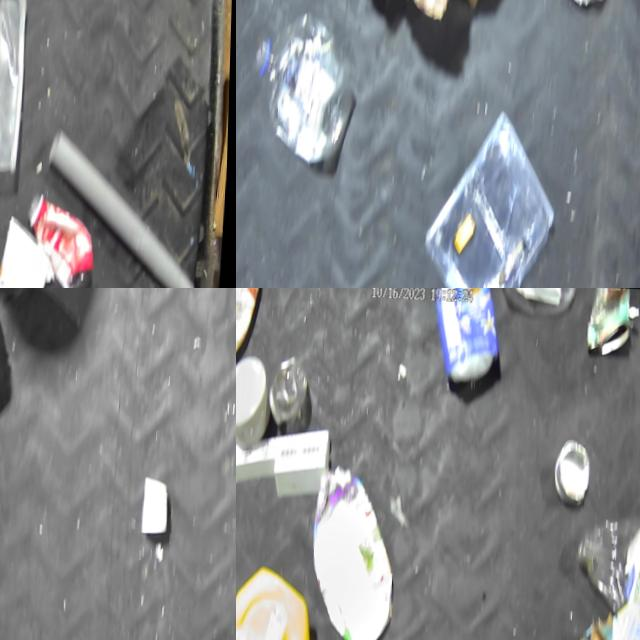can: (0, 210, 55, 288), (583, 288, 640, 356), (550, 435, 593, 504)
non_white_jug: (424, 288, 504, 385), (236, 562, 320, 640)
plastic_bottle: (249, 7, 358, 167), (573, 507, 640, 613)
